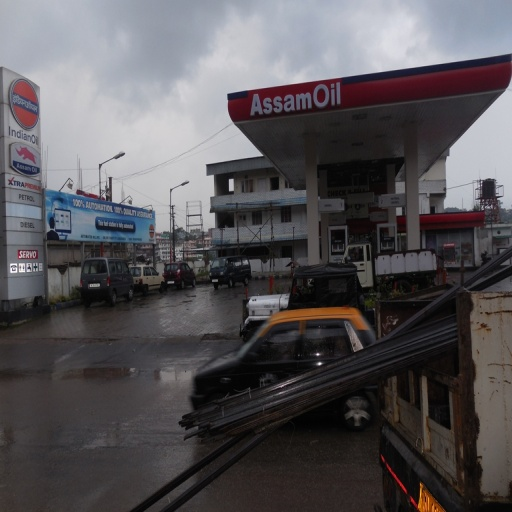roof: (227, 43, 510, 192)
